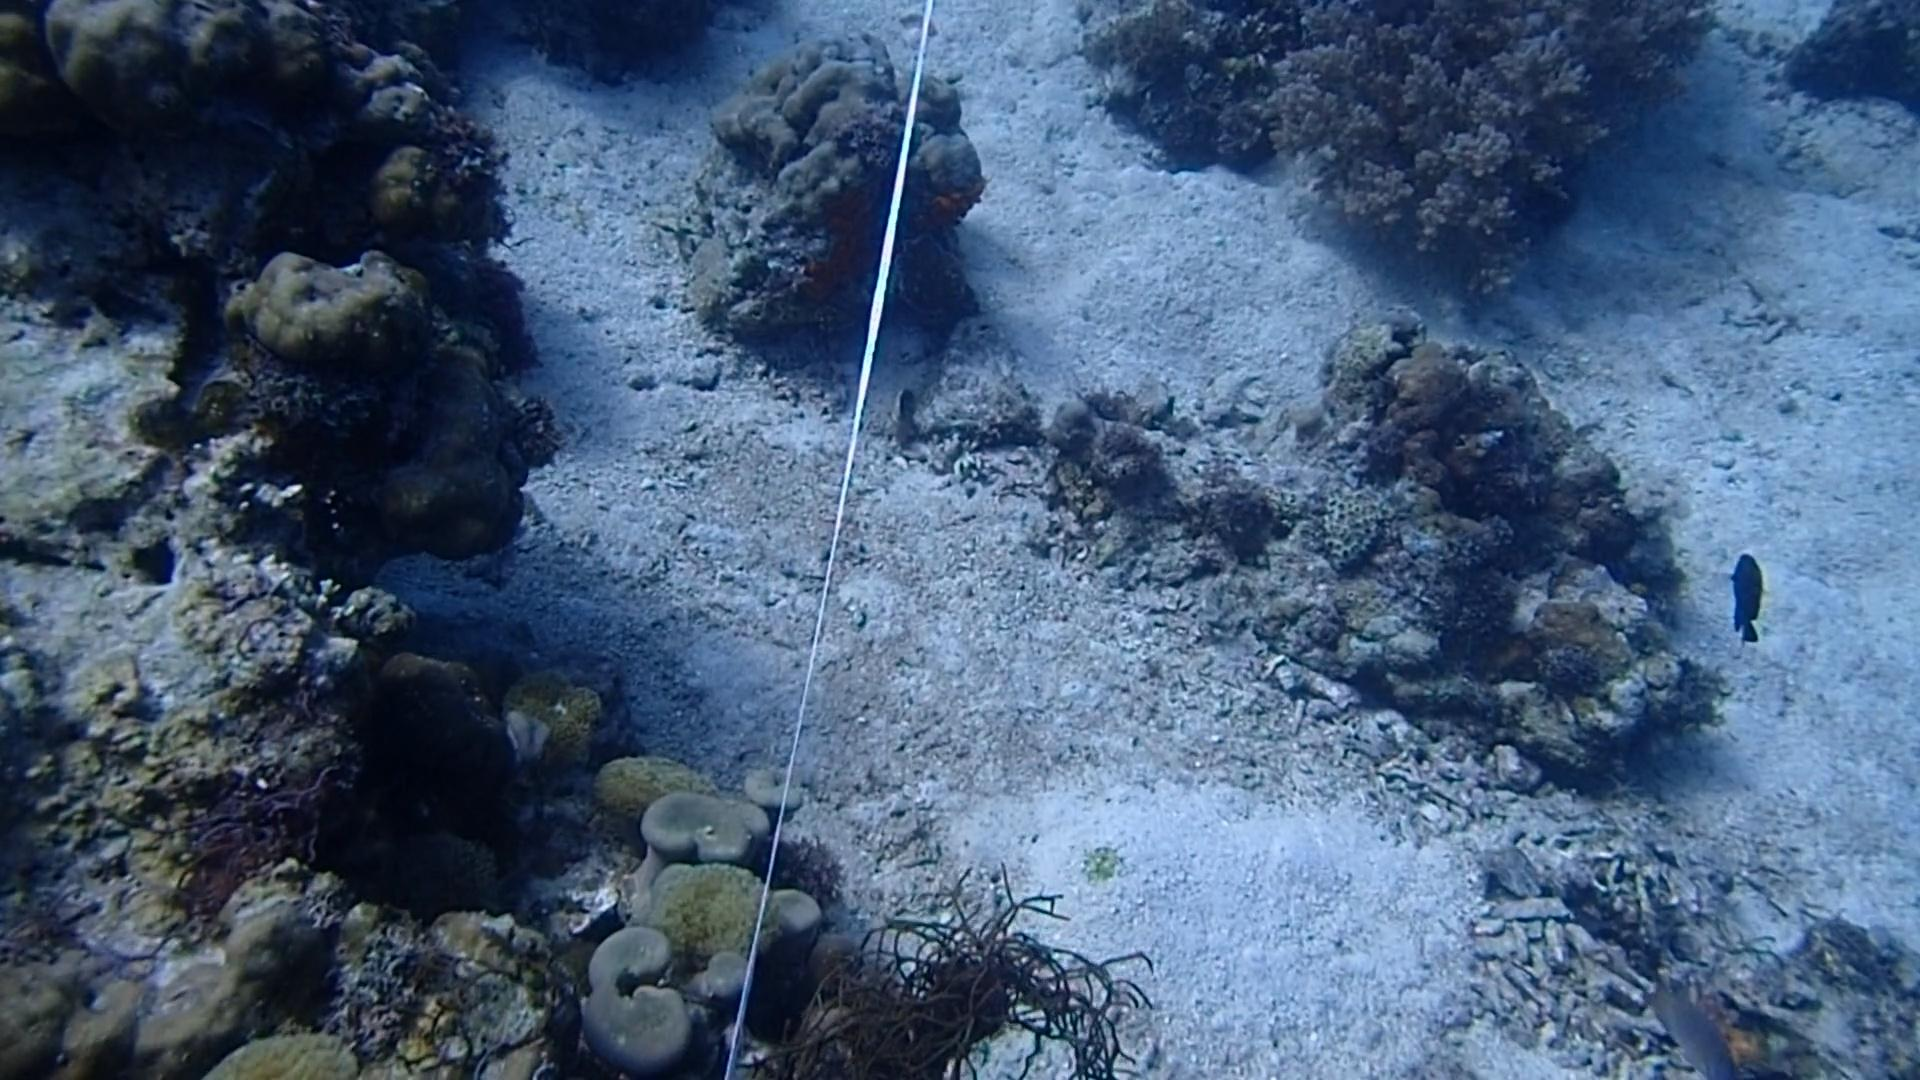Dark Fish: (1714, 547, 1787, 646)
Light Fish: (1636, 975, 1741, 1080)
